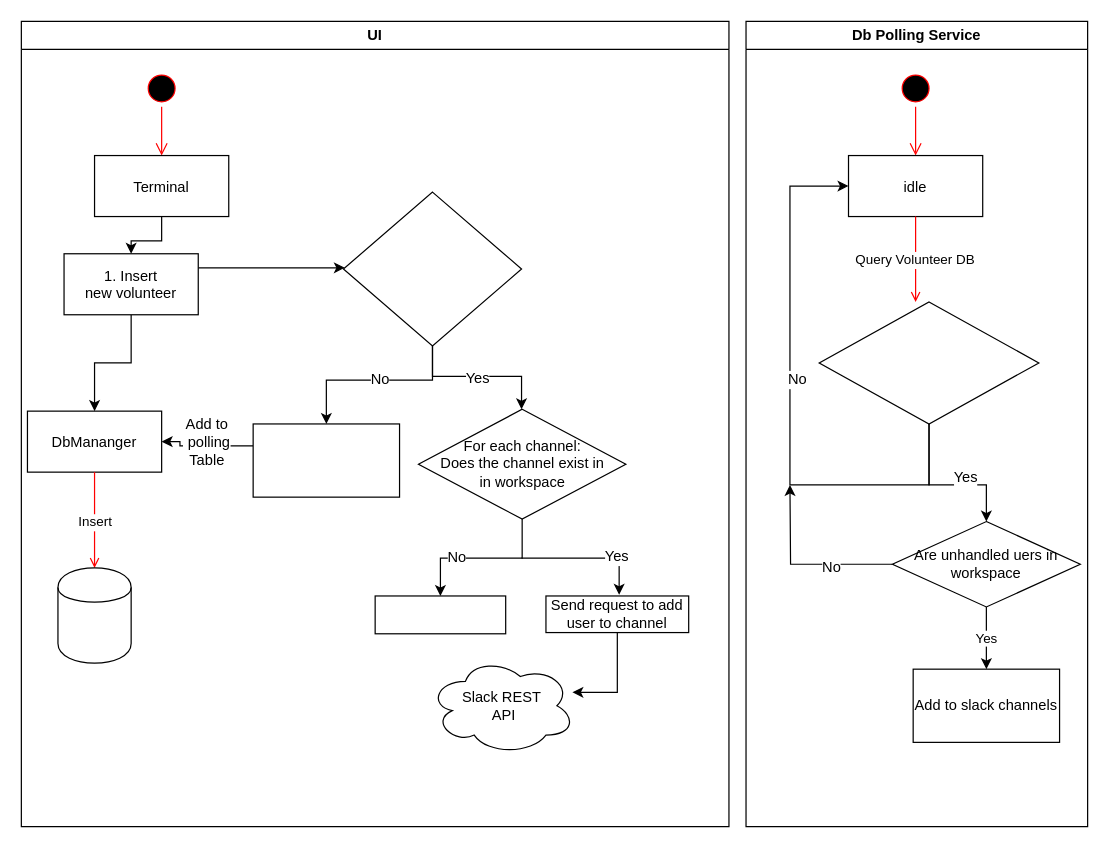
The diagram is 1109 pixels wide and 848 high, and some of its shapes have lost their labels. The shapes that lost their labels are listed below. From the top down, each one's centre as x and y in pixels, then its label:
[432,268]: 2. For each email: is the email owner in workspace?
[928,362]: Are there new unhandled users?
[326,460]: Send invitation to join workspace by mail
[94,615]: Volunteer DB
[440,614]: Log an error
